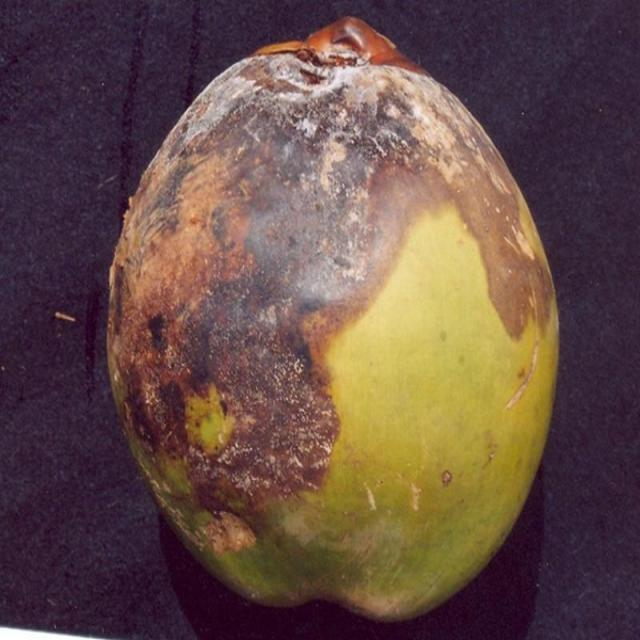damaged: (104, 18, 561, 627)
